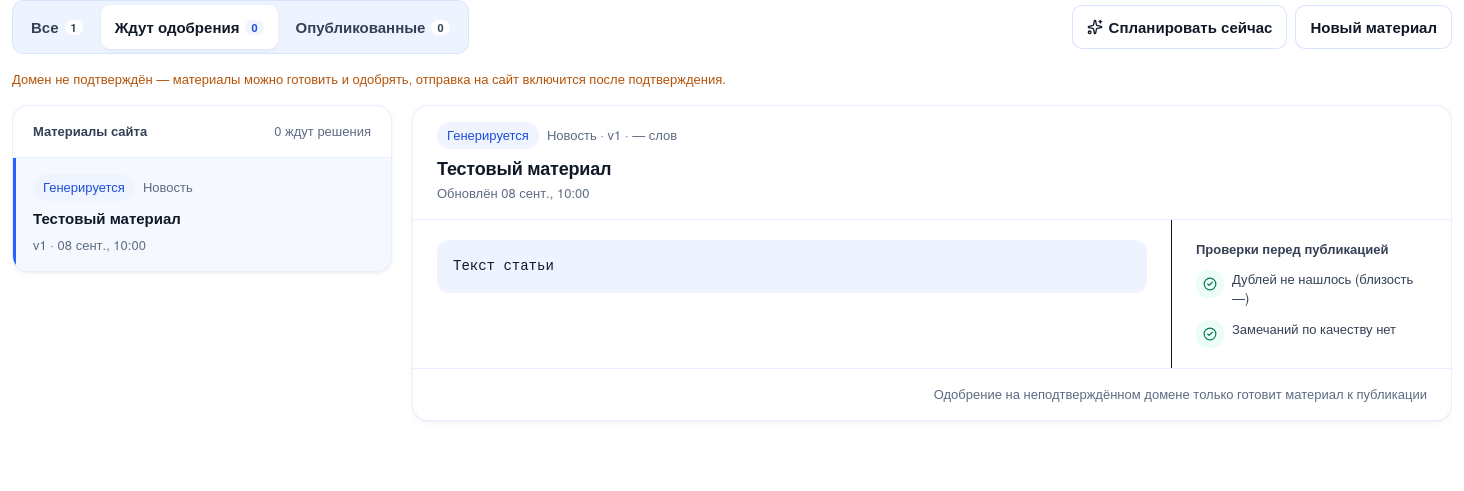
it: article detail recovery › refreshes an open generating card to its terminal result and blocks failed quality approval
Click the button "Генерируется Новость Тестовый материал v1 · 08 сент., 10:00" at point(84, 187), box [13,158,391,271]
Wait 12000 ms
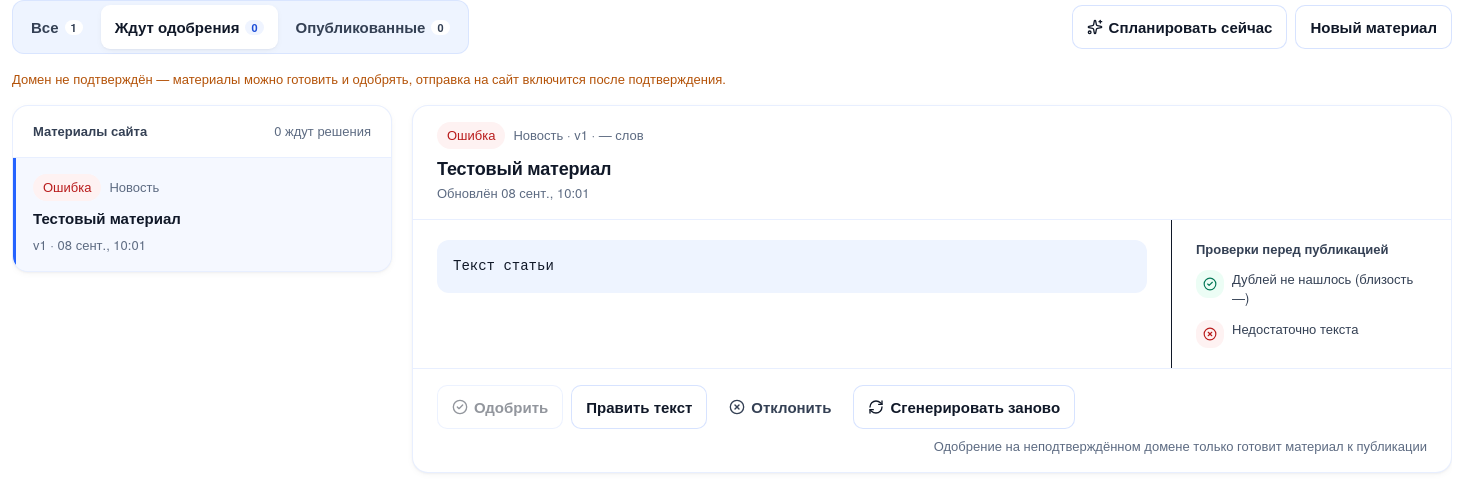
Check: the text "Недостаточно текста" is shown, box [1232,320,1358,348]
Check: the button "Одобрить" is disabled, box [437,385,563,429]
